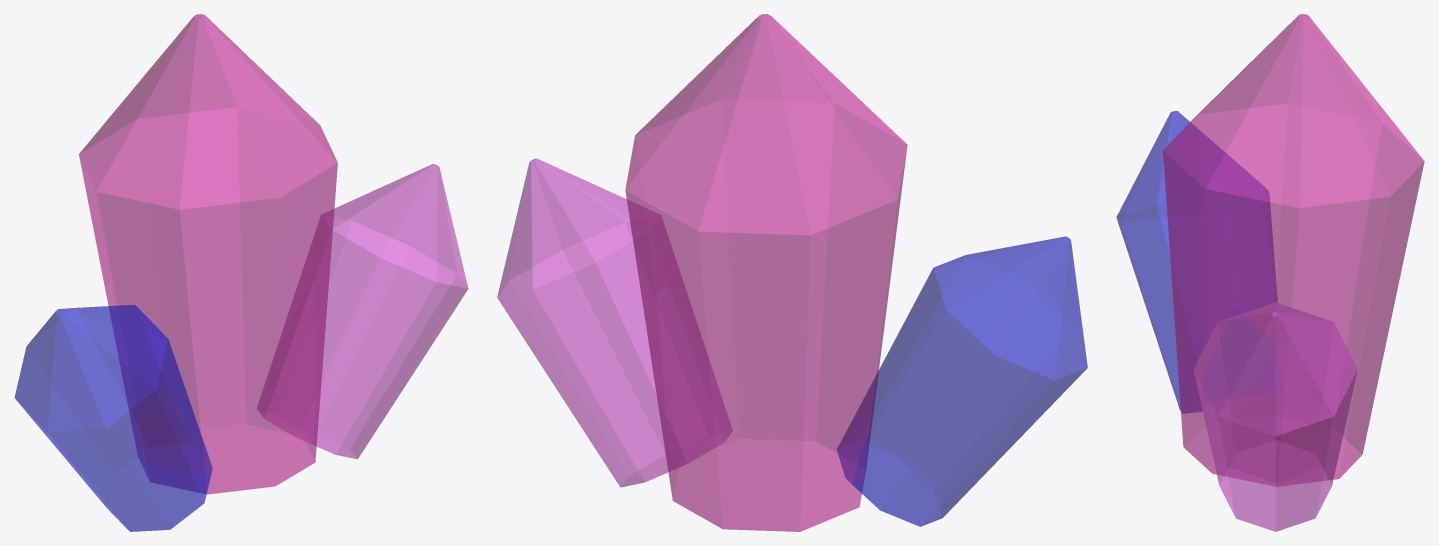
The model's file is Kristall.glb.
3 views of the same model, side by side, from view 1: azimuth 30°, elevation 25°; view 2: azimuth 150°, elevation 25°; view 3: azimuth 270°, elevation 25° (orthographic). The views are drawn at different scales.
Visible parts, largest first — view 1: Circle.015, Circle.016, Circle.017; view 2: Circle.015, Circle.016, Circle.017; view 3: Circle.015, Circle.016, Circle.017.
Boxes of the visible parts, x1,y1,x2,y2 form: Circle.015: (79, 14, 337, 494); Circle.016: (257, 164, 468, 459); Circle.017: (14, 304, 212, 531); Circle.015: (625, 14, 907, 531); Circle.016: (497, 158, 732, 487); Circle.017: (837, 236, 1087, 526); Circle.015: (1163, 14, 1424, 486); Circle.016: (1193, 302, 1357, 531); Circle.017: (1116, 111, 1277, 413).
Size of the model in its own units: 1.15 by 1.08 by 0.6672.
